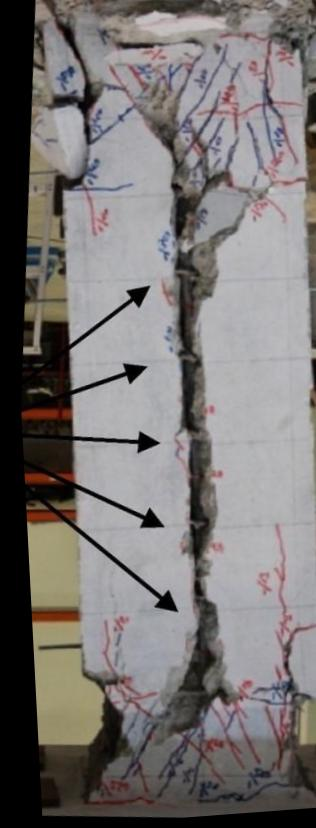crack: (173, 62, 306, 238), (42, 15, 133, 148), (178, 47, 257, 136), (230, 628, 311, 710), (147, 730, 216, 802), (203, 705, 252, 773), (93, 621, 133, 698), (105, 685, 150, 747), (113, 726, 150, 795), (188, 785, 289, 806), (257, 710, 287, 775), (167, 55, 204, 100), (218, 35, 273, 62), (114, 39, 205, 53), (267, 528, 280, 618), (81, 189, 105, 237), (109, 67, 136, 105), (114, 65, 149, 94), (105, 617, 123, 669), (76, 797, 146, 808), (29, 120, 56, 148), (204, 121, 223, 154), (68, 184, 131, 193), (169, 432, 180, 473), (88, 782, 103, 799), (101, 782, 121, 793)
damage: (29, 0, 316, 812), (129, 79, 238, 745)
